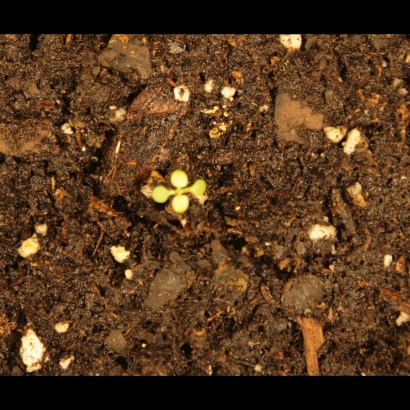leaf: (146, 184, 169, 207), (167, 193, 190, 216), (190, 179, 213, 202), (168, 167, 191, 190)
